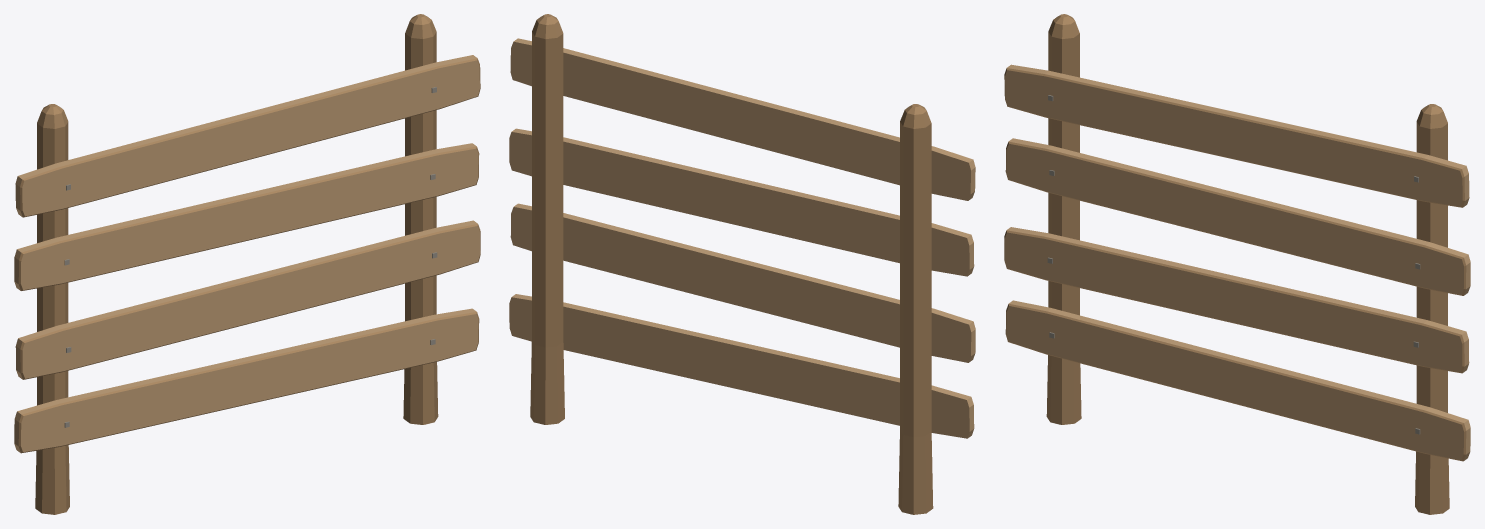
Rendered from barrera.fbx.
3 views of the same model, side by side, from view 1: azimuth 30°, elevation 25°; view 2: azimuth 150°, elevation 25°; view 3: azimuth 330°, elevation 25° (orthographic).
Parts seen in each view (by area): view 1: barrera; view 2: barrera; view 3: barrera.
Part boxes in pixels (x1,y1,x2,y2): barrera: (14, 14, 480, 514); barrera: (509, 14, 975, 514); barrera: (1004, 14, 1470, 514).
Bounding box in the file's own units: 200 × 167 × 17.6.
